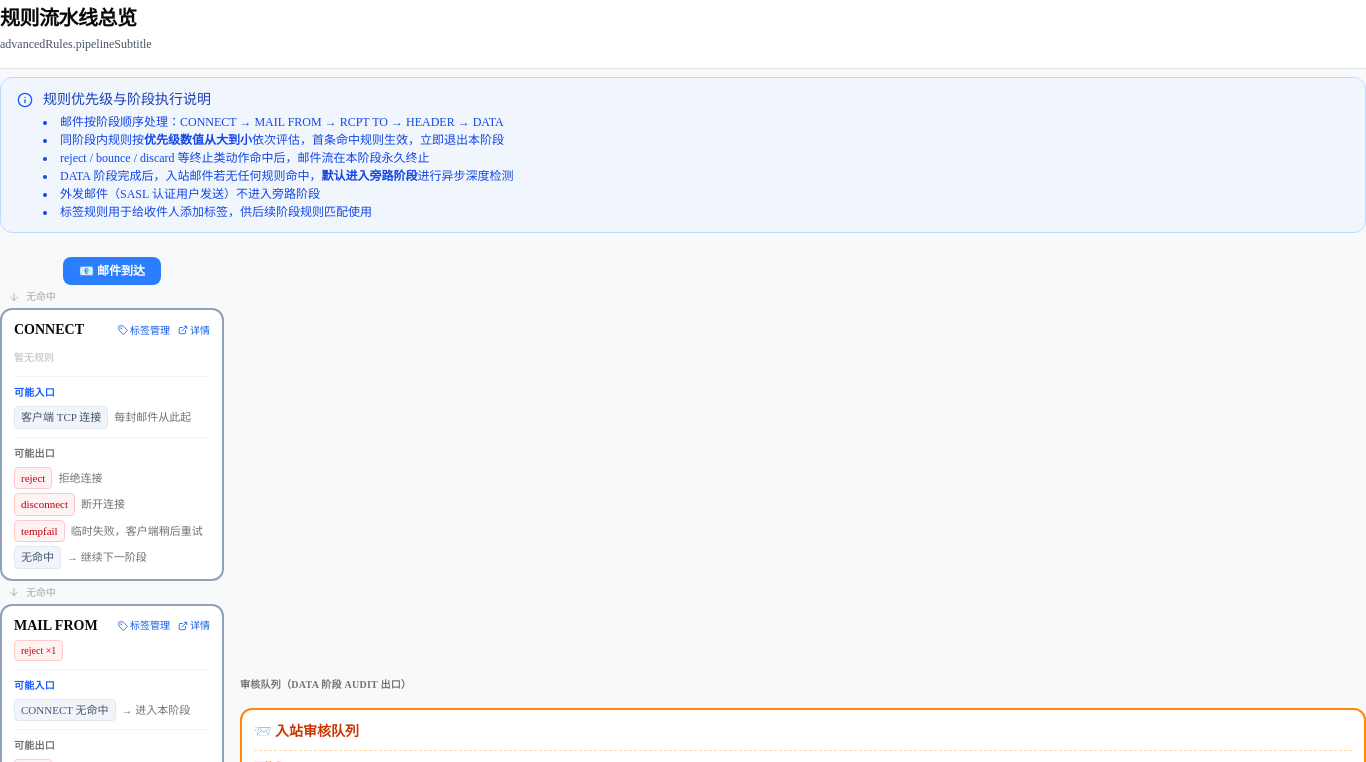
RulePipelinePage — stage rendering › closing the Sheet hides the rule rows again
Step 1. Click the text "MAIL FROM" → click(56, 626), box [14,616,98,636]
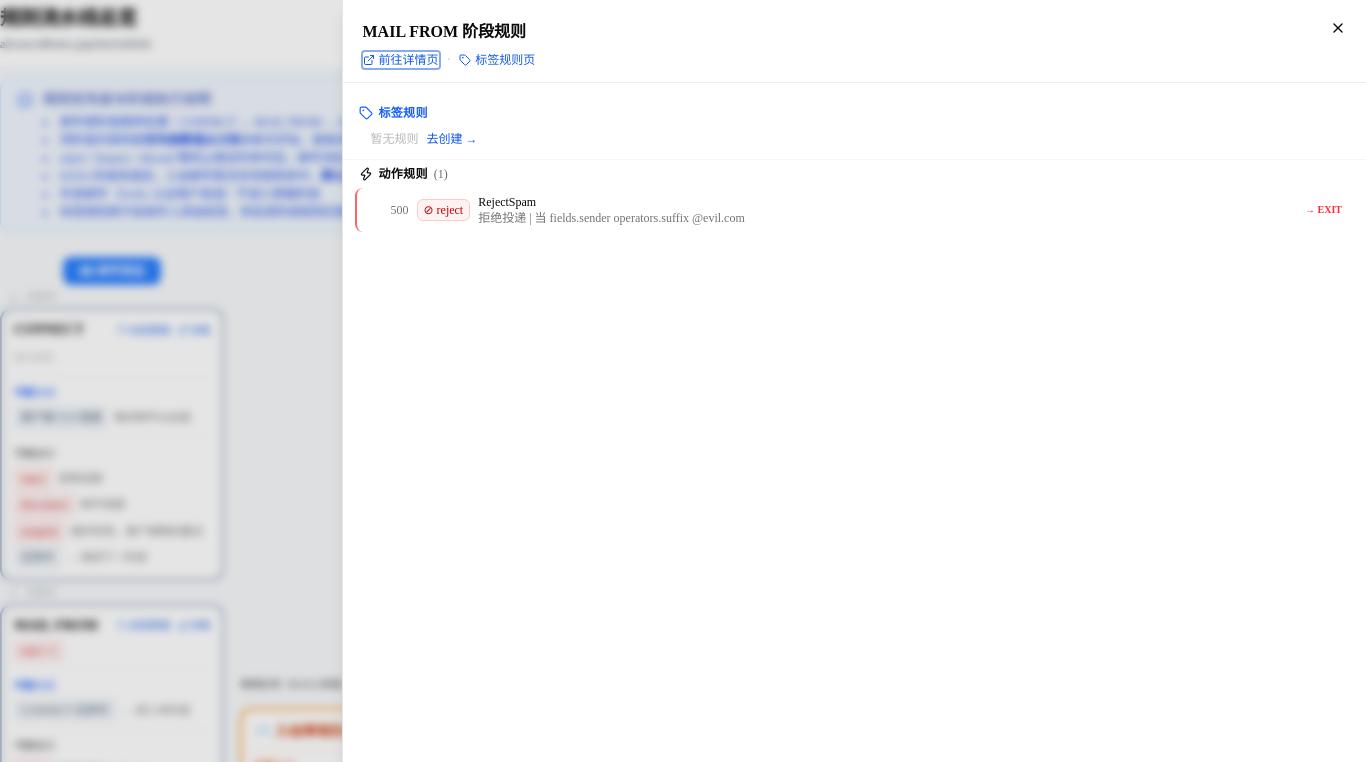
Step 2. Click the button "Close" → click(1338, 28), box [1322,12,1354,44]
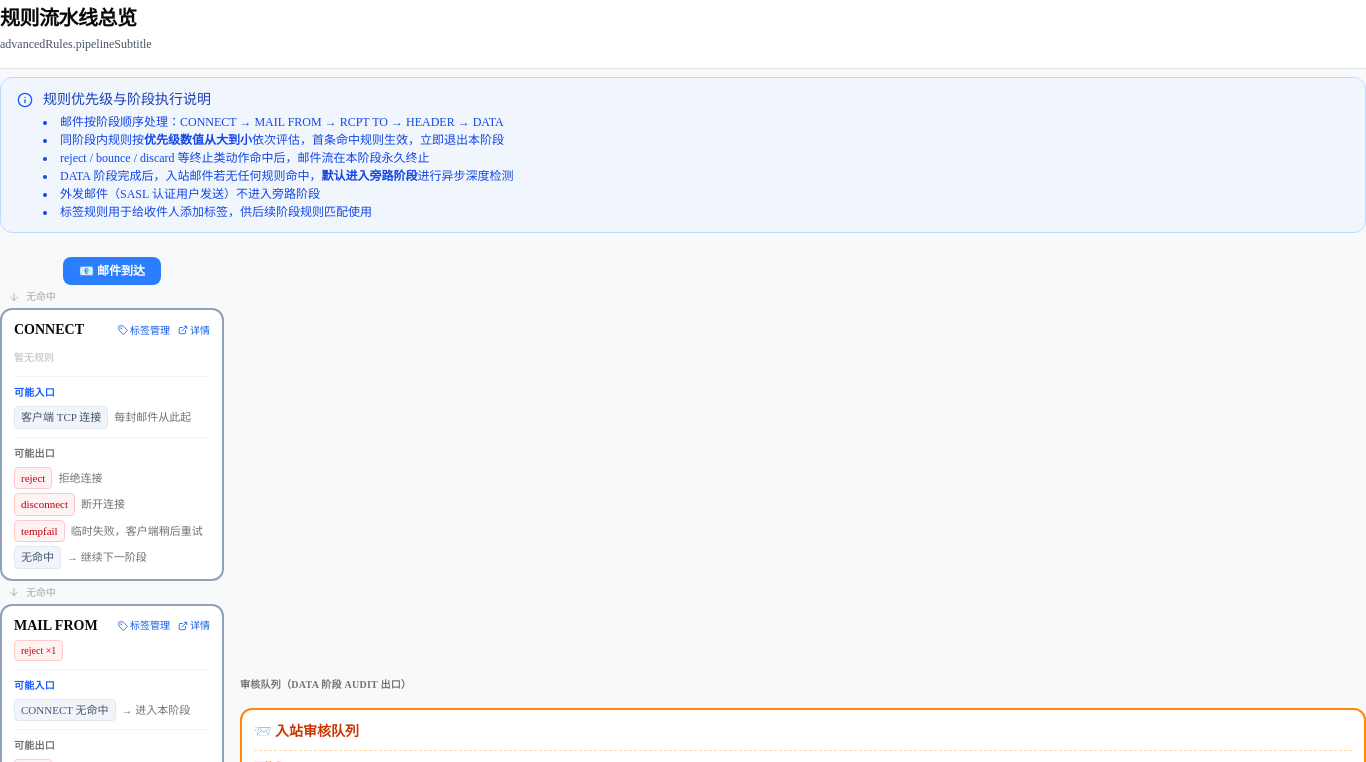
Expected: the button "RejectSpam" is gone
